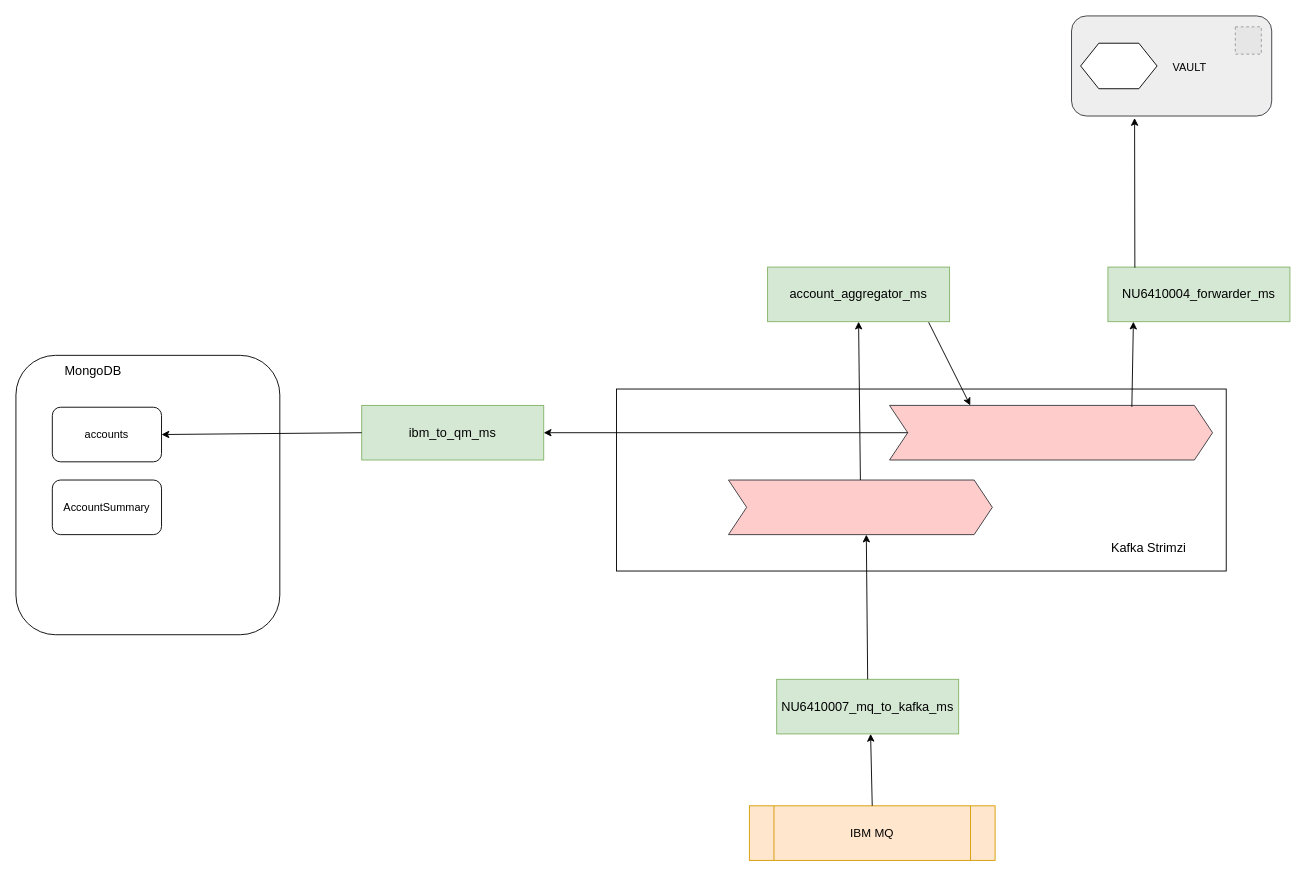
Some shapes in this 1306 by 876 pixel diagram are drawn without their labels. Grey dashed boxes stand in for pictures. The shapes that lost their labels are listed below. From the top down, each one's box as (x1, y1, x2, y2) in pixels, then its label:
(1080, 42, 1157, 89): Kafka
(889, 404, 1213, 460): legacydepositsaccountopening.accountopenedv1
(728, 479, 992, 535): deposits.generalinformationupdatedv1
